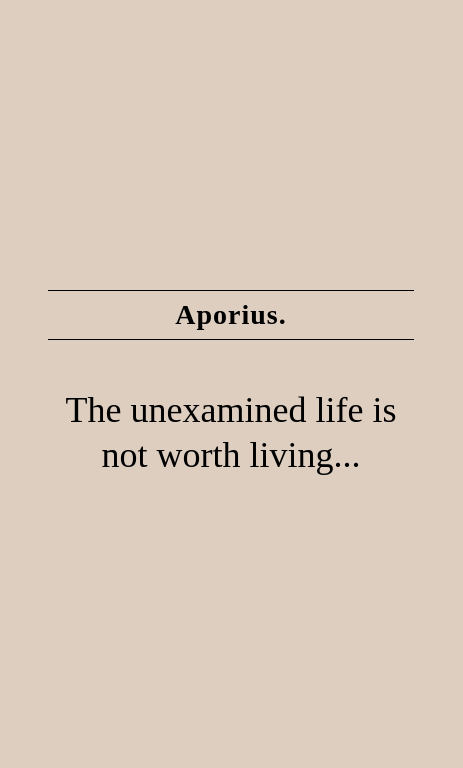
Test: settings › returns to the splash screen when that is where it came from
This screenshot has width=463, height=768.
Click the button "Aporius. The unexamined life is not worth living..." at (231, 384), box [16, 0, 446, 767]
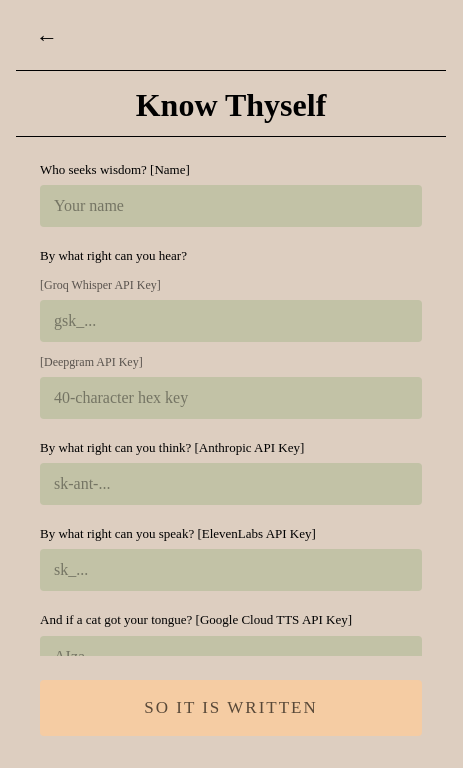
Click the button named "Back" at (47, 35), box [20, 8, 74, 62]
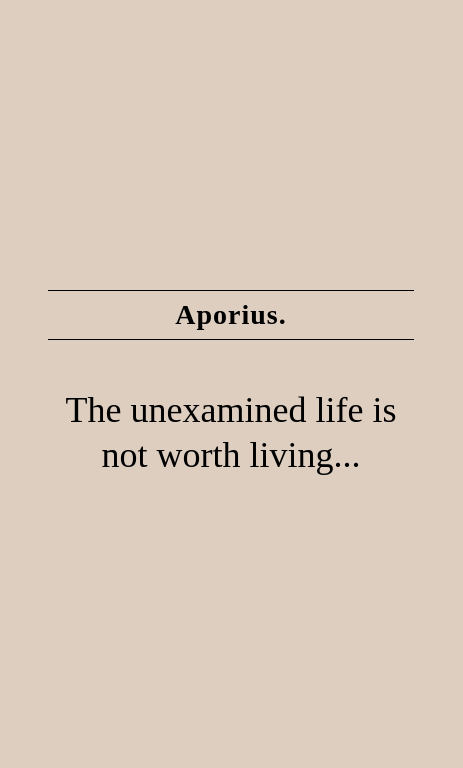
Expected: the heading "Aporius." is shown, [175, 299, 287, 331]
